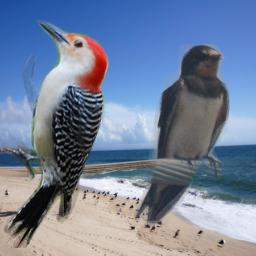Swallow: (134, 44, 230, 225)
Woodpecker: (2, 20, 109, 248)
